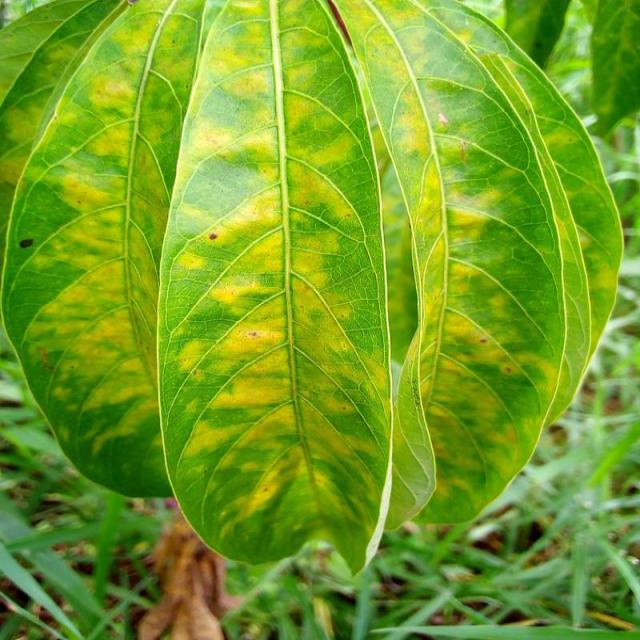cassava leaf: (1, 0, 625, 578), (330, 0, 624, 530), (154, 0, 396, 578), (0, 0, 209, 500)
